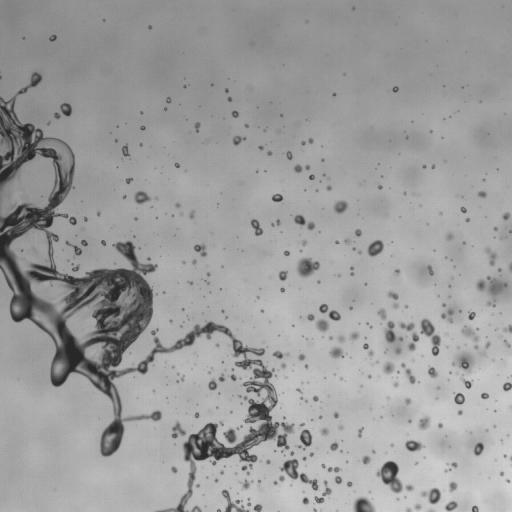droplet: (376, 461, 413, 493), (476, 276, 505, 306), (452, 351, 474, 388), (221, 489, 249, 511), (296, 257, 319, 277), (383, 321, 402, 343), (353, 496, 375, 511), (421, 488, 441, 504), (297, 429, 311, 449), (367, 240, 383, 256), (171, 422, 186, 438), (134, 191, 151, 204), (485, 247, 497, 265), (405, 440, 423, 451), (334, 200, 347, 213), (316, 319, 328, 332), (330, 347, 344, 358), (194, 244, 206, 256), (441, 309, 453, 321), (60, 103, 71, 116), (418, 416, 429, 429), (383, 362, 394, 373), (454, 393, 465, 404), (445, 501, 457, 511), (474, 442, 483, 455), (233, 136, 245, 145), (428, 366, 437, 378), (208, 378, 217, 390), (272, 193, 283, 202), (388, 291, 398, 300), (378, 308, 386, 319), (122, 144, 129, 156), (278, 271, 287, 280), (241, 480, 250, 489), (503, 382, 511, 391), (449, 482, 457, 491), (294, 164, 302, 172), (503, 325, 511, 333), (330, 442, 338, 450), (362, 456, 370, 464), (350, 332, 359, 339), (468, 311, 475, 319), (446, 233, 453, 240), (218, 374, 225, 381), (321, 428, 328, 435), (334, 476, 341, 483), (254, 504, 261, 511), (286, 151, 292, 159), (478, 191, 486, 197), (195, 122, 200, 131), (49, 35, 56, 41), (503, 212, 509, 219), (355, 229, 361, 236), (72, 265, 79, 271), (307, 314, 314, 320), (338, 335, 344, 342), (504, 340, 510, 347), (229, 374, 236, 380), (481, 393, 488, 399), (171, 466, 177, 473), (302, 497, 308, 504), (232, 111, 238, 117), (460, 207, 466, 213), (395, 348, 401, 354), (298, 354, 304, 360), (414, 504, 420, 510), (189, 211, 194, 218), (393, 86, 398, 92), (54, 113, 60, 118), (126, 178, 132, 183), (81, 240, 87, 245), (393, 302, 398, 308), (485, 342, 490, 348), (313, 396, 319, 401), (405, 398, 410, 404), (451, 462, 457, 467), (472, 506, 478, 511), (308, 138, 313, 143), (309, 174, 314, 179), (326, 185, 331, 190), (275, 220, 280, 225), (345, 239, 350, 244), (394, 269, 399, 274), (281, 363, 286, 368), (393, 382, 398, 387), (457, 410, 462, 415), (334, 412, 338, 418), (166, 98, 171, 102), (175, 203, 180, 207), (302, 240, 306, 245), (284, 251, 289, 255), (180, 375, 184, 380), (438, 423, 442, 428), (347, 481, 351, 486), (247, 501, 251, 506), (301, 141, 305, 145), (267, 151, 271, 155), (175, 163, 179, 167), (305, 165, 309, 169), (378, 185, 382, 189), (101, 240, 105, 244), (280, 288, 284, 292), (297, 388, 301, 392), (194, 413, 198, 417), (219, 421, 223, 425), (140, 126, 145, 129), (406, 508, 411, 511), (228, 97, 231, 101), (259, 146, 263, 149), (192, 260, 196, 263), (188, 281, 192, 284), (300, 423, 304, 426), (339, 425, 342, 429), (290, 451, 293, 455), (310, 452, 313, 456), (302, 457, 306, 460), (266, 460, 270, 463), (445, 469, 449, 472), (423, 165, 426, 168), (432, 165, 435, 168), (97, 212, 100, 215), (466, 218, 469, 221), (494, 227, 497, 230), (147, 257, 150, 260), (442, 303, 445, 306), (321, 464, 324, 467), (500, 472, 503, 475), (215, 479, 218, 482), (507, 479, 510, 482), (351, 271, 353, 275), (217, 509, 221, 511), (148, 26, 151, 28), (225, 89, 228, 91), (245, 124, 247, 127), (139, 143, 142, 145), (123, 195, 125, 198), (84, 218, 87, 220), (350, 267, 353, 269), (207, 273, 210, 275), (349, 307, 352, 309), (368, 375, 371, 377), (408, 420, 411, 422), (220, 471, 223, 473), (313, 509, 316, 511), (48, 122, 50, 124), (403, 192, 405, 194), (336, 241, 338, 243), (358, 251, 360, 253), (405, 305, 407, 307), (445, 332, 447, 334), (216, 344, 218, 346), (305, 365, 307, 367), (319, 416, 321, 418), (372, 450, 374, 452), (415, 462, 417, 464), (258, 481, 260, 483)
ligament: (0, 72, 289, 511), (280, 459, 318, 489), (420, 318, 440, 355), (398, 322, 419, 351), (461, 326, 479, 349), (314, 480, 331, 503), (319, 304, 340, 321), (294, 214, 314, 229), (401, 363, 415, 383), (66, 241, 81, 255), (250, 219, 263, 235), (363, 343, 373, 357), (273, 350, 289, 358), (274, 475, 284, 485), (189, 505, 201, 511), (328, 467, 340, 472), (428, 265, 433, 275), (358, 427, 362, 437), (508, 262, 511, 272), (427, 509, 435, 511), (509, 456, 511, 461)
